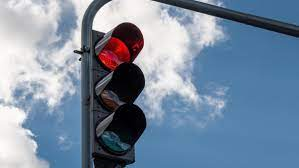red: (89, 30, 140, 162)
